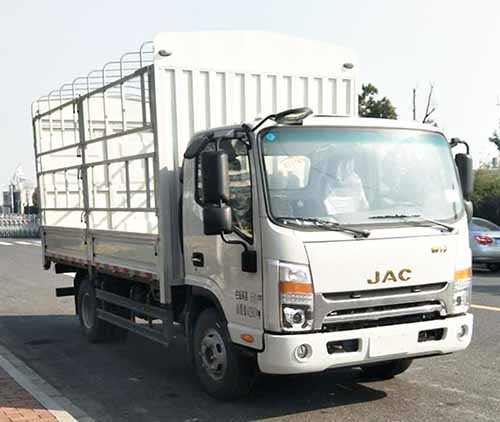smalltruck: (12, 32, 480, 388)
